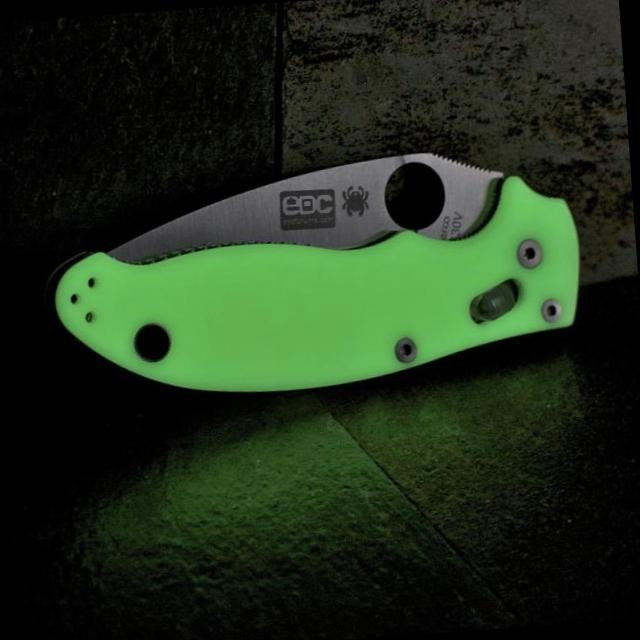Knife: (54, 153, 579, 391)
